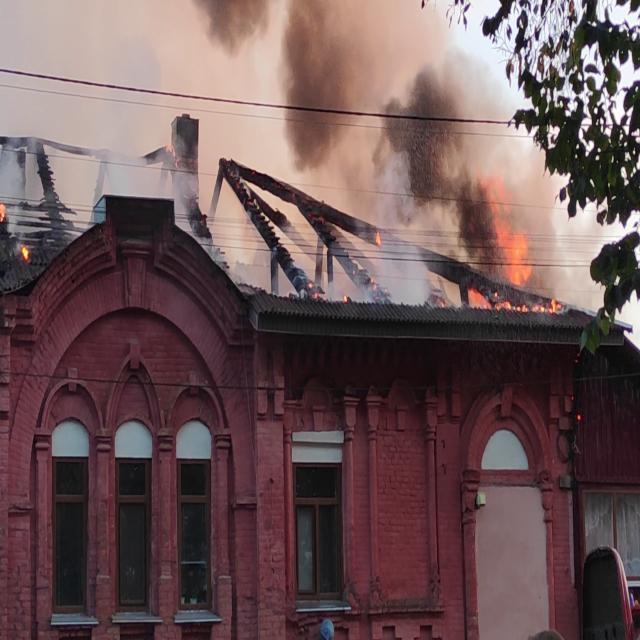fire: (470, 170, 565, 318)
smoke: (281, 0, 460, 207), (60, 49, 152, 150), (373, 240, 428, 304)
